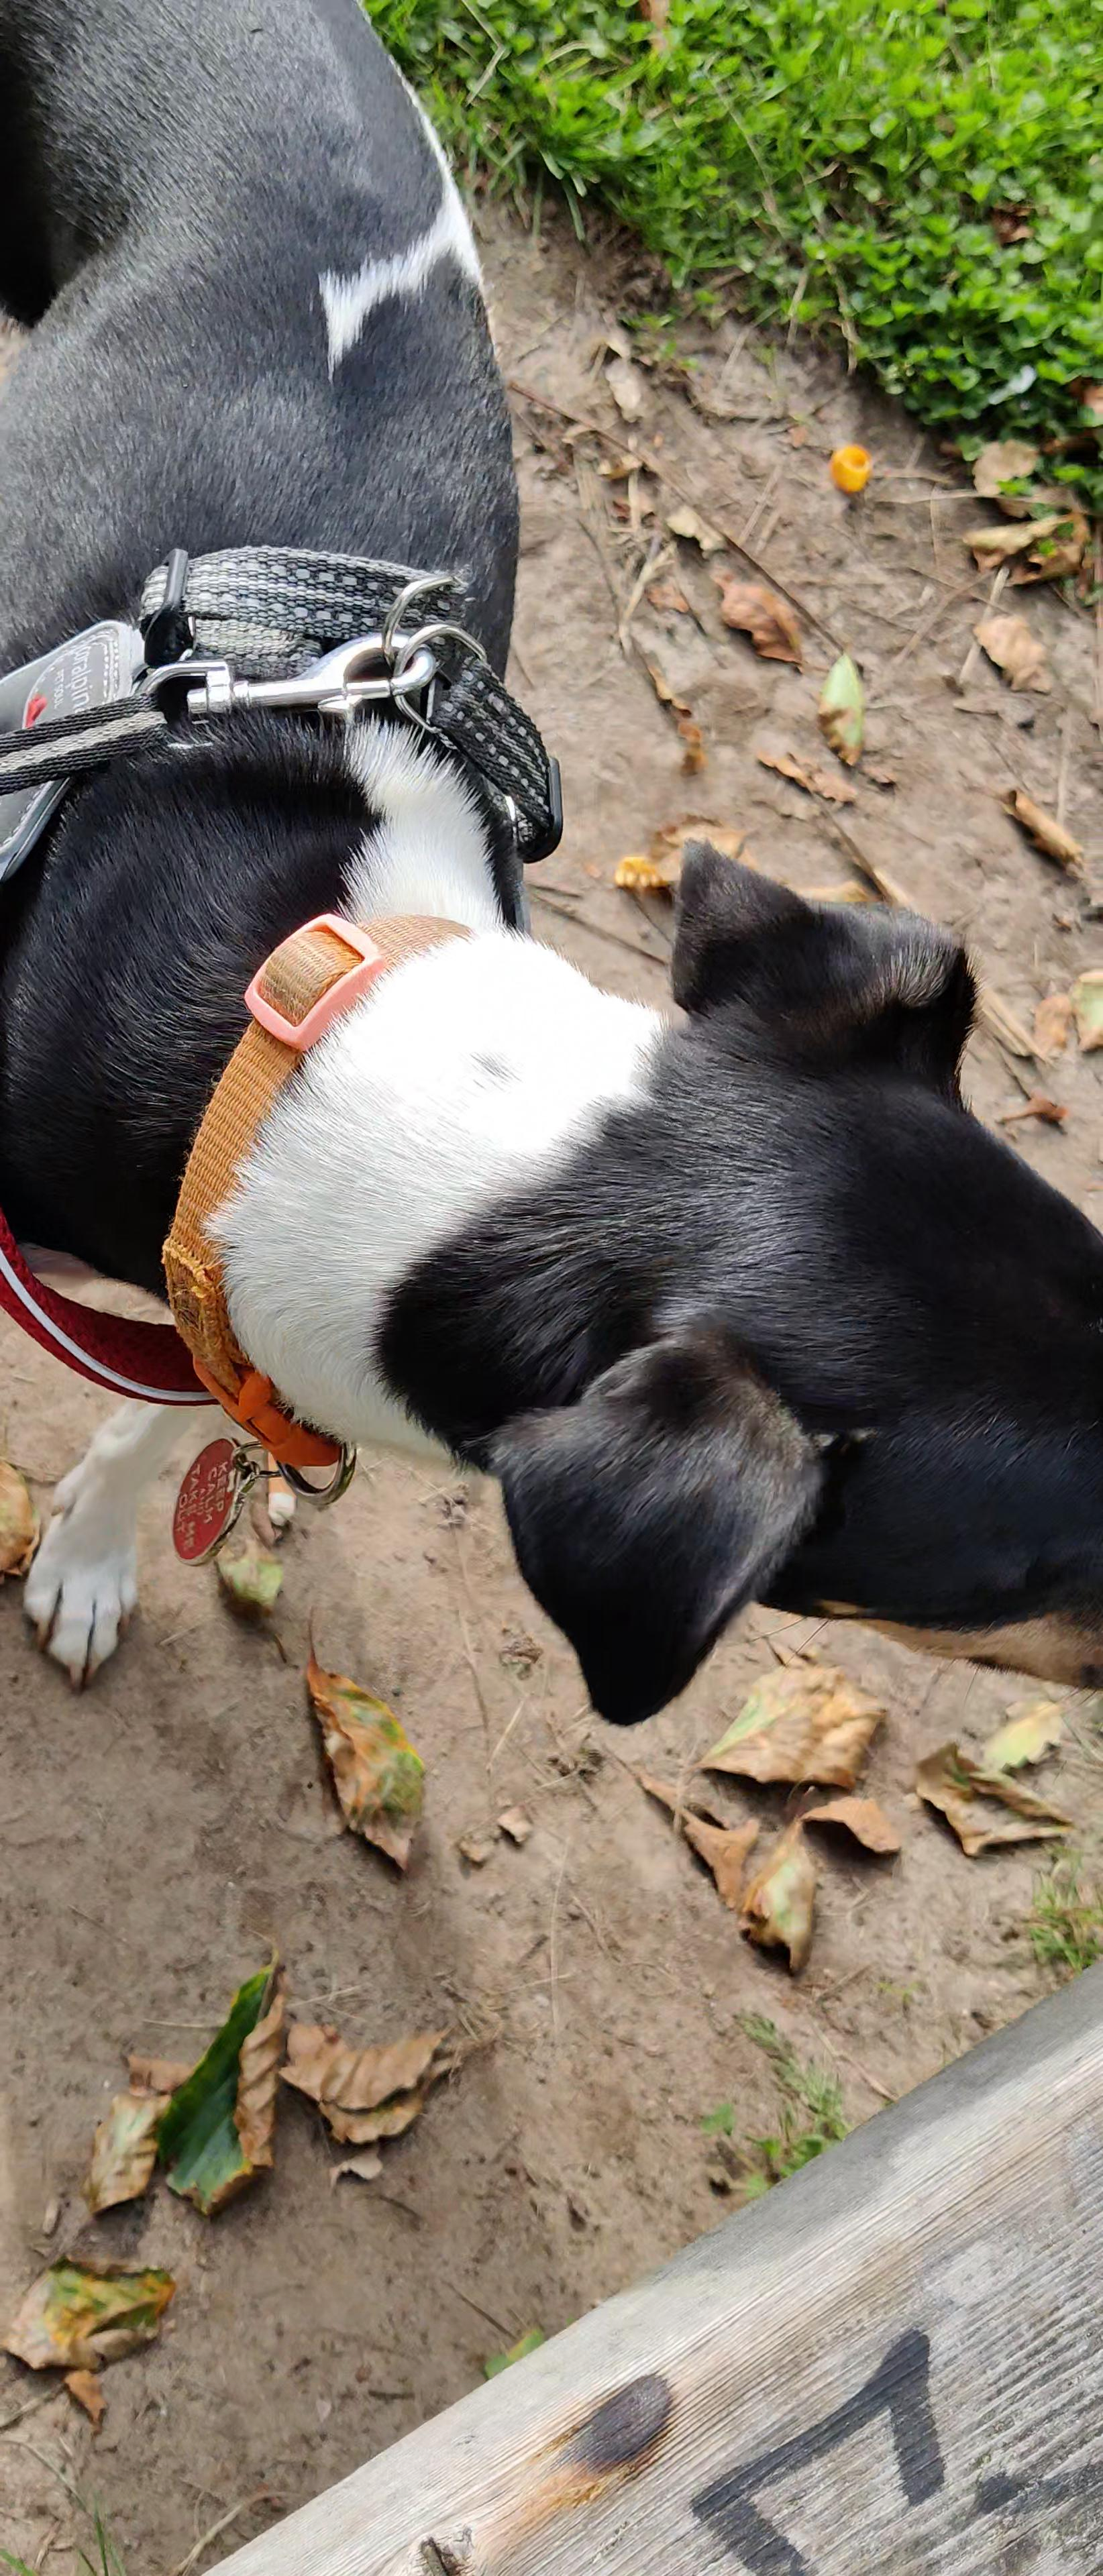Dog: (0, 0, 1103, 1741)
